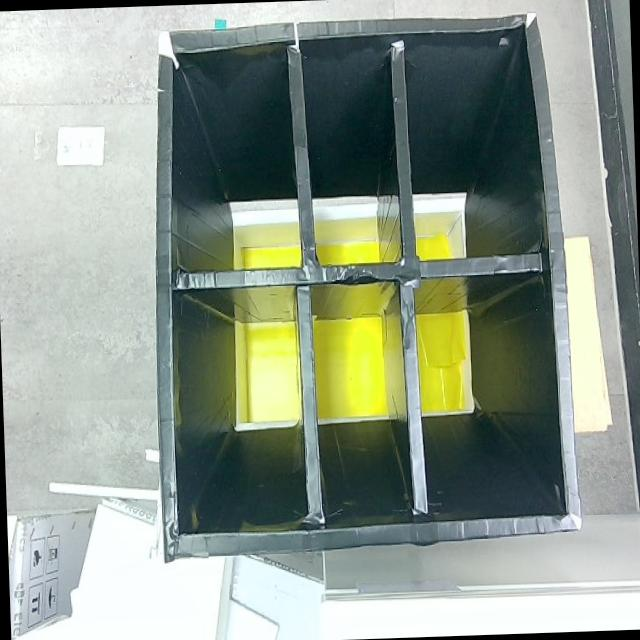box: (143, 11, 582, 559)
